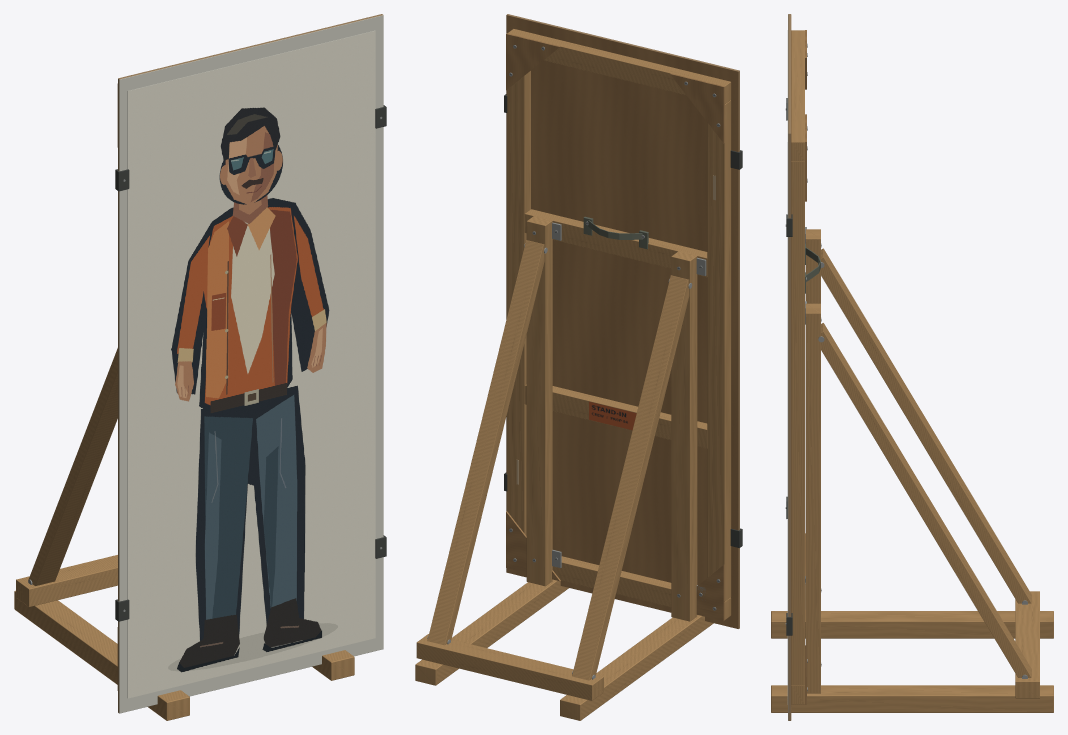
File: P04_Actor_StandIn.glb
3 renders of one model, left to right at view 1: azimuth 30°, elevation 25°; view 2: azimuth 150°, elevation 25°; view 3: azimuth 270°, elevation 25°, orthographic. The views are drawn at different scales.
Parts seen in each view (by area): view 1: 02_FRONT_IMAGE_SWAP_SURFACE, STATIC_P04_05_Offwhite_Board_Rim, STATIC_P04_02_Bare_Pine_Timber, STATIC_P04_04_Plywood_Cut_Edges, STATIC_P04_08_Charcoal_Clip_Spring; view 2: STATIC_P04_02_Bare_Pine_Timber, STATIC_P04_03_Plywood_Back, STATIC_P04_04_Plywood_Cut_Edges, STATIC_P04_06_Dull_Zinc_Hardware, STATIC_P04_10_Backstage_Identity_Label, STATIC_P04_09_Worn_Carry_Webbing, STATIC_P04_08_Charcoal_Clip_Spring; view 3: STATIC_P04_02_Bare_Pine_Timber, STATIC_P04_04_Plywood_Cut_Edges, STATIC_P04_05_Offwhite_Board_Rim, STATIC_P04_03_Plywood_Back.
Part boxes in pixels (x1,y1,x2,y2): 02_FRONT_IMAGE_SWAP_SURFACE: (128,31,375,698); STATIC_P04_05_Offwhite_Board_Rim: (119,15,383,713); STATIC_P04_02_Bare_Pine_Timber: (14,348,354,720); STATIC_P04_04_Plywood_Cut_Edges: (118,14,382,712); STATIC_P04_08_Charcoal_Clip_Spring: (115,105,386,621); STATIC_P04_02_Bare_Pine_Timber: (415,29,731,720); STATIC_P04_03_Plywood_Back: (506,15,738,628); STATIC_P04_04_Plywood_Cut_Edges: (507,14,739,628); STATIC_P04_06_Dull_Zinc_Hardware: (427,45,720,679); STATIC_P04_10_Backstage_Identity_Label: (589,401,636,430); STATIC_P04_09_Worn_Carry_Webbing: (583,216,648,249); STATIC_P04_08_Charcoal_Clip_Spring: (504,94,742,547); STATIC_P04_02_Bare_Pine_Timber: (771,30,1053,712); STATIC_P04_04_Plywood_Cut_Edges: (788,14,790,720); STATIC_P04_05_Offwhite_Board_Rim: (787,14,788,720); STATIC_P04_03_Plywood_Back: (791,14,806,720).
Size of the model in its own units: 0.831 by 1.91 by 0.82.
11 materials, 4 textured.
